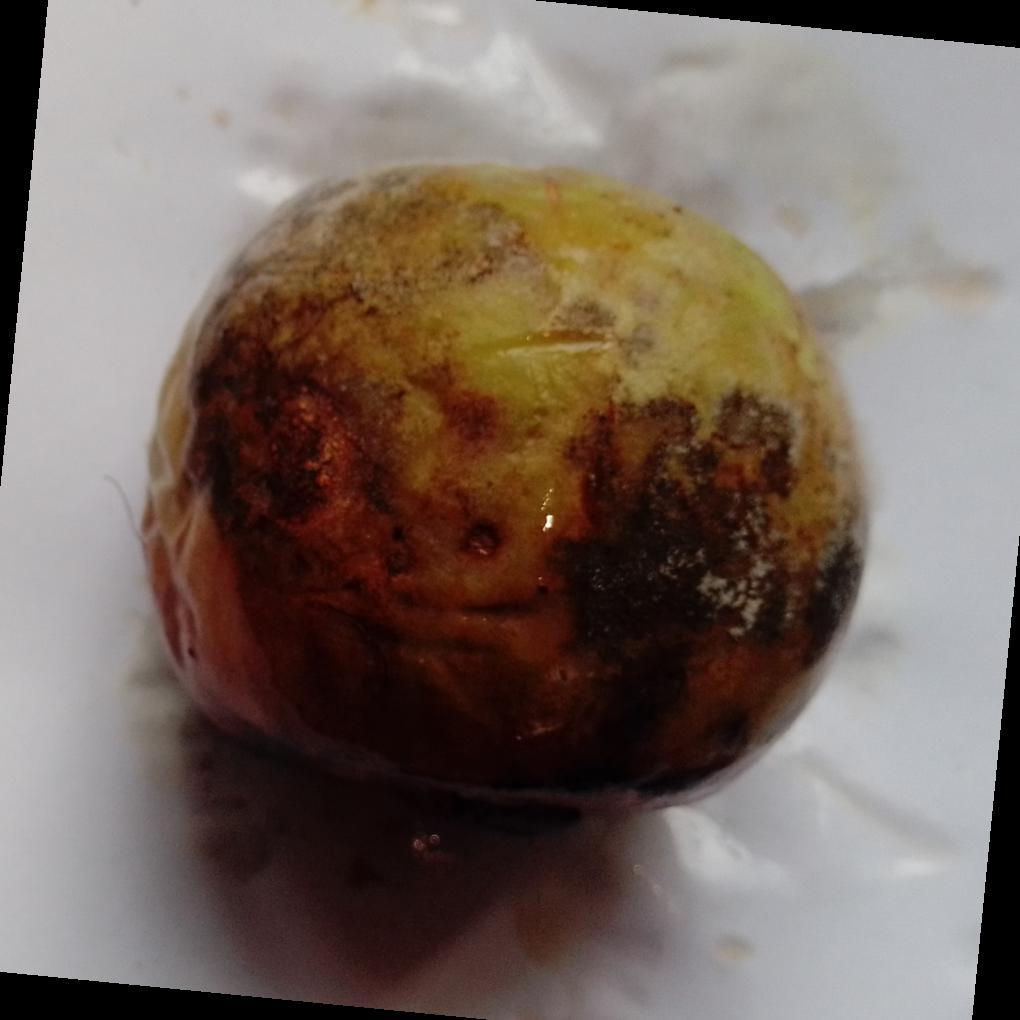FreshOrange: (137, 162, 871, 818)
